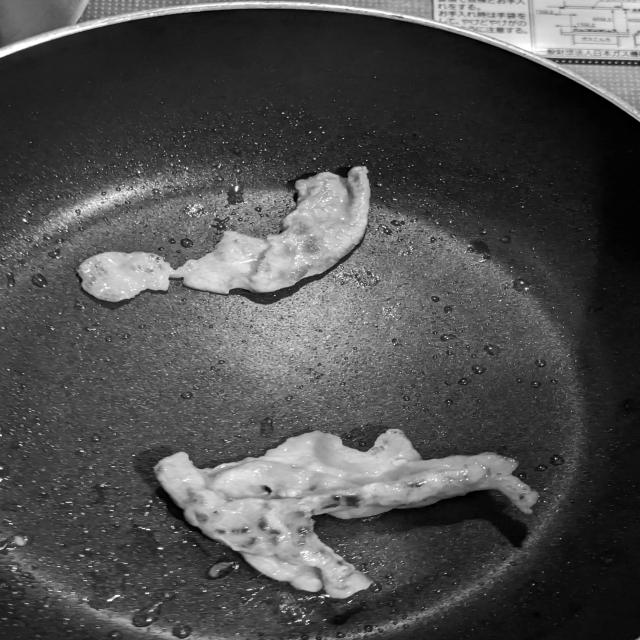NG undercooked pork,: (142, 424, 551, 606)
OK cooked pork,: (73, 157, 373, 313)
